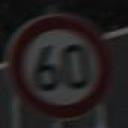speed_limit_60: (10, 12, 118, 118)
